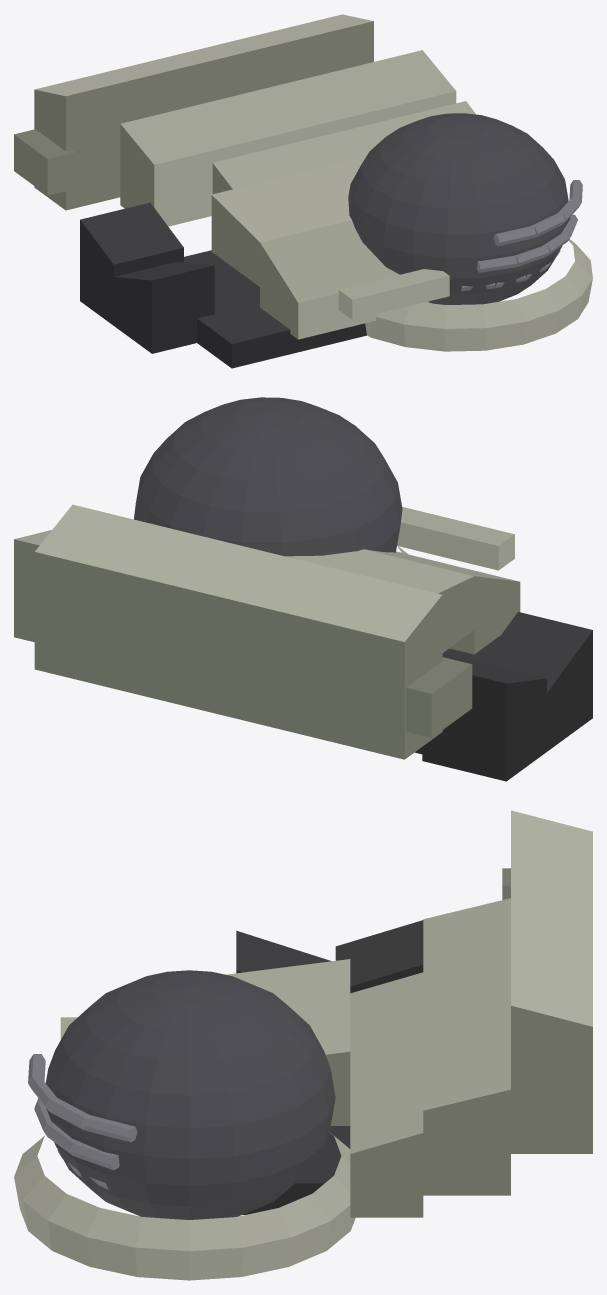
The model's file is Building_ShipChunk_Mech__C.glb.
3 renders of one model, top to bottom at view 1: azimuth 30°, elevation 25°; view 2: azimuth 150°, elevation 25°; view 3: azimuth 270°, elevation 25°, orthographic. The views are drawn at different scales.
Parts seen in each view (by area): view 1: ShipChunk_Mech__C; view 2: ShipChunk_Mech__C; view 3: ShipChunk_Mech__C.
Boxes of the visible parts, x1,y1,x2,y2 form: ShipChunk_Mech__C: (14,14,592,368); ShipChunk_Mech__C: (14,397,592,781); ShipChunk_Mech__C: (14,810,592,1280).
Size of the model in its own units: 2.09 by 0.86 by 1.98.
Materials: 1 (1 with a texture image).
